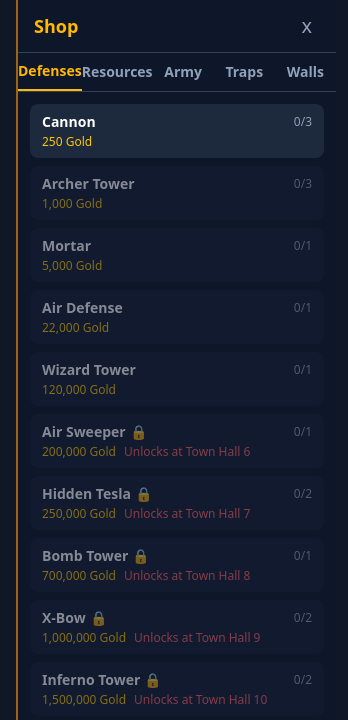
Scenario: ShopPanel › enables trap items when resources exactly meet the cost
What coordinates should you click on to do the following:
click the button "Traps"
I would click on:
 (244, 72)
Its box is [214,53,275,91].
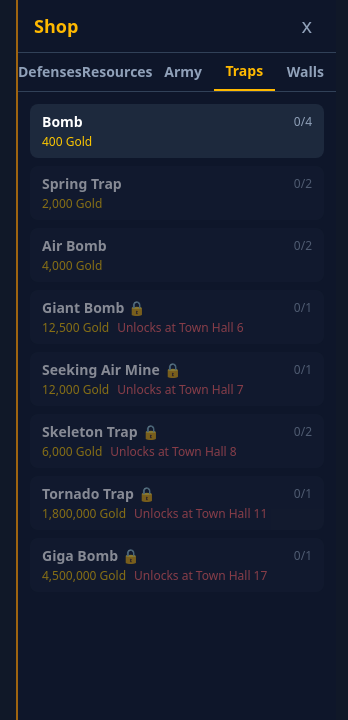
Now the button "Bomb 0/4 400 Gold" is enabled, box [30,104,324,158]
